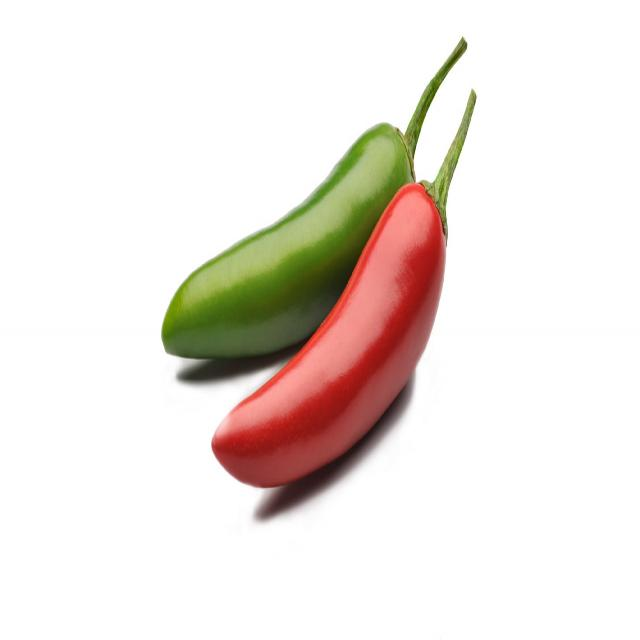aji: (218, 195, 485, 495), (145, 98, 418, 373)
